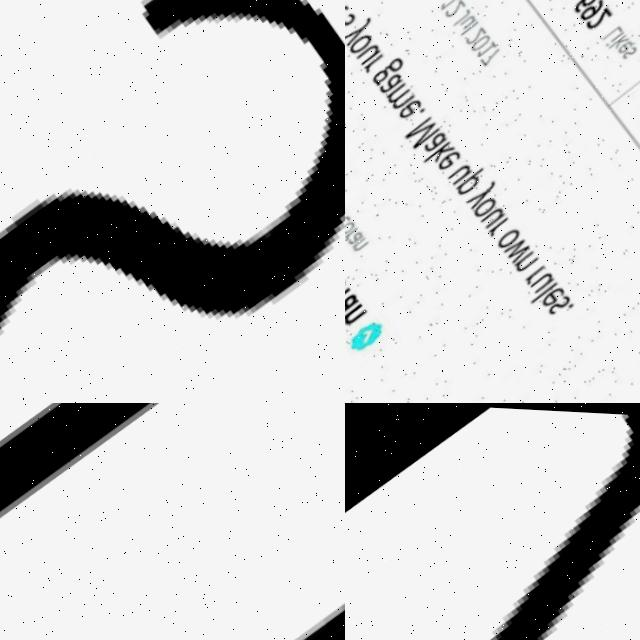0: (470, 26, 496, 50)
1: (476, 35, 501, 58), (437, 0, 464, 10)
2: (583, 0, 617, 28), (465, 20, 489, 43), (443, 0, 467, 16)
6: (569, 0, 602, 12)
7: (479, 41, 506, 65)
9: (576, 0, 610, 21)
F: (345, 403, 640, 640)
S: (0, 0, 345, 403)
U: (0, 403, 345, 640)
